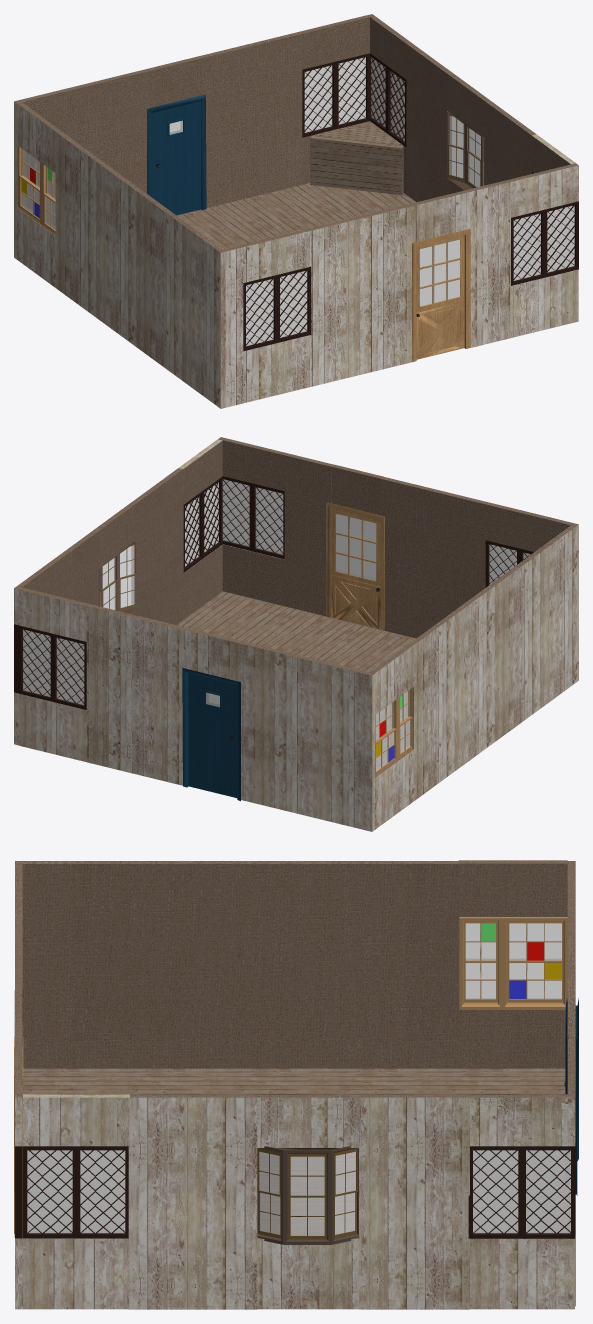
Rendered from house.fbx.
3 views of the same model, one above another, from view 1: azimuth 30°, elevation 25°; view 2: azimuth 150°, elevation 25°; view 3: azimuth 270°, elevation 25° (orthographic). The views are drawn at different scales.
Parts seen in each view (by area): view 1: wall3, wall21.001, wall8, wall6, floor, wall21, wall13, door_belt2.001, door2, shelf1, wall2, wall23 (+32 smaller); view 2: wall3, wall6, wall8, wall21.001, floor, wall21, wall16, door2, door_belt2.001, wall10, wall2, wall20 (+28 smaller); view 3: wall3, wall16, wall13, floor, window, window3, wall18, wall12, wall15, wall5, wall4, wall11 (+18 smaller).
Part boxes in pixels (x1,y1,x2,y2): wall3: (55,132,225,408); wall21.001: (309,203,415,386); wall8: (199,32,302,207); wall6: (14,69,149,259); floor: (177,183,415,249); wall21: (463,180,510,348); wall13: (406,43,451,202); door_belt2.001: (416,235,464,359); door2: (152,101,200,215); shelf1: (310,136,403,195); wall2: (412,191,470,361); wall23: (243,335,311,403); wall3: (411,523,578,801); wall6: (239,641,374,831); wall8: (86,604,189,785); wall21.001: (381,477,487,638); floor: (177,591,415,767); wall21: (284,453,333,617); wall16: (132,468,183,624); door2: (188,673,237,797); door_belt2.001: (331,508,380,629); wall10: (19,693,86,761); wall2: (326,464,384,630); wall20: (222,544,284,606); wall3: (15,861,462,1068); wall16: (128,1094,257,1309); wall13: (359,1094,469,1309); floor: (22,1068,565,1305); window: (459,917,567,1009); window3: (257,1146,358,1244); wall18: (23,1238,128,1309); wall12: (470,1238,574,1309); wall15: (252,1237,360,1309); wall5: (458,1005,565,1068); wall4: (458,860,567,919); wall11: (468,1094,575,1146).
Size of the model in its own units: 732 by 301 by 726.
